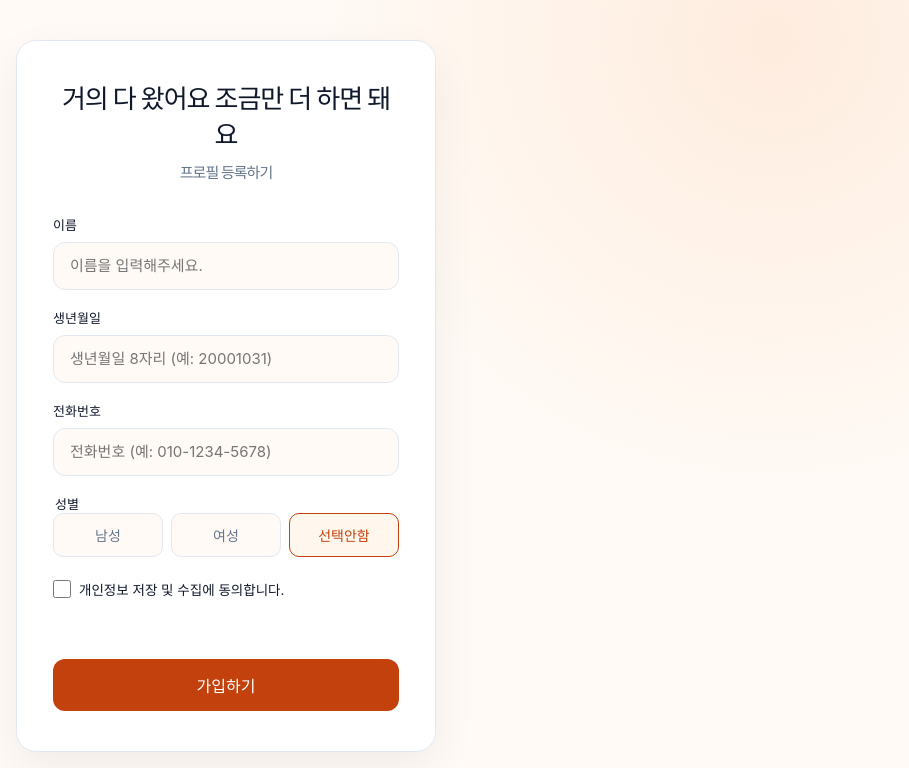
Scenario: JoinProfileView › 8자리가 아닌 생년월일은 전송하지 않는다
This screenshot has width=909, height=768.
Type "홍길동" into the field labelled "이름".
click(226, 266); type("홍길동")  # box left=53, top=242, right=399, bottom=290
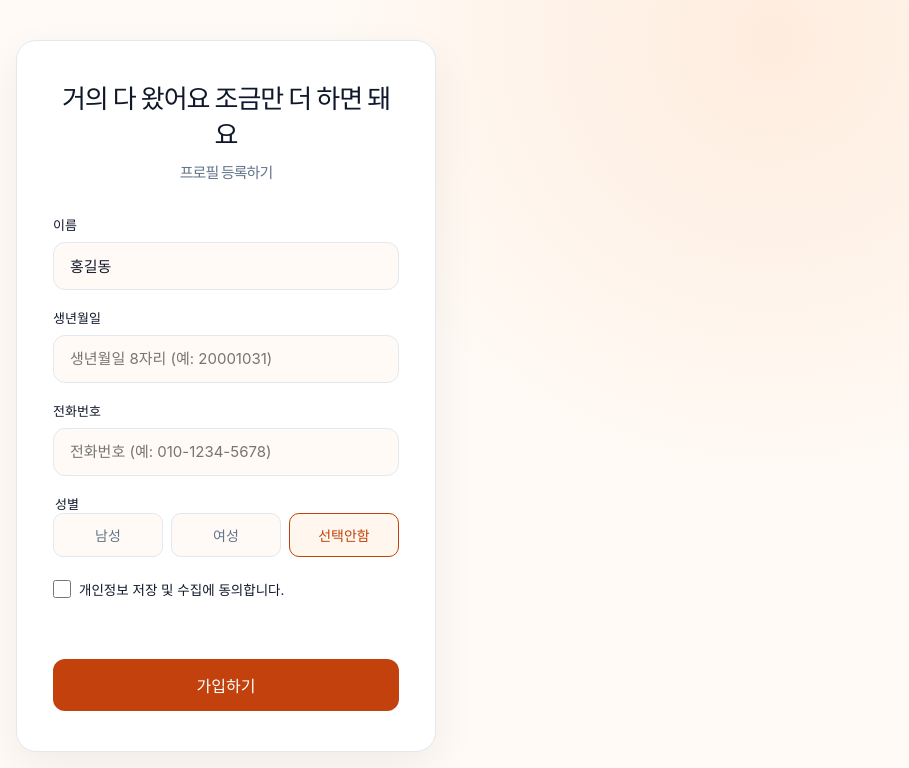
Type "2000010" into the field labelled "생년월일".
click(226, 359); type("2000010")  # box left=53, top=335, right=399, bottom=383
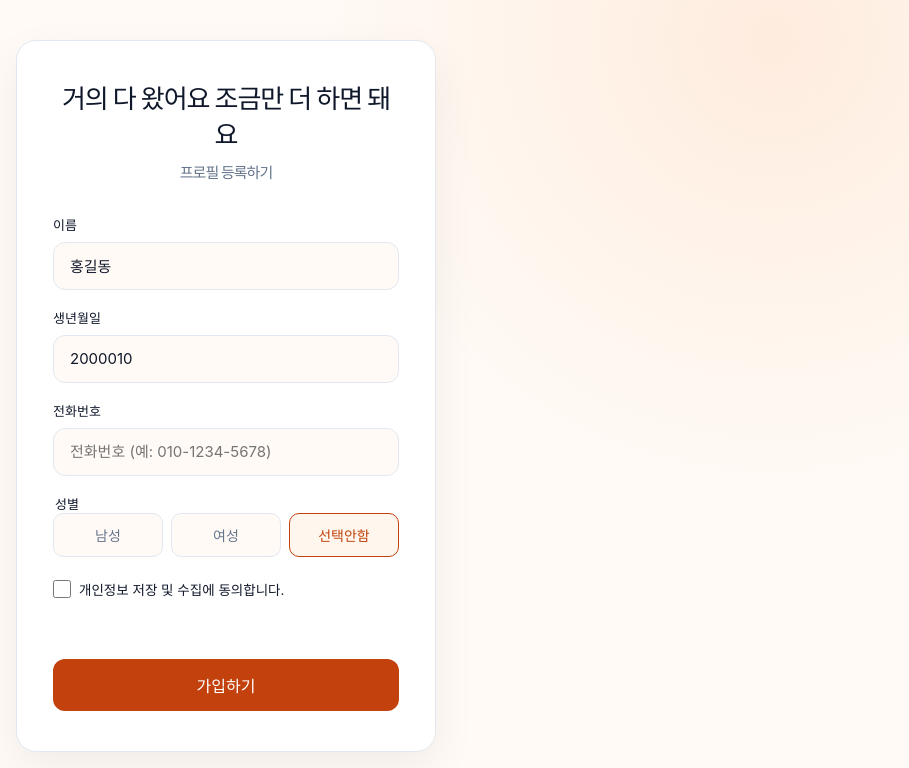
Submit the form, box left=53, top=215, right=399, bottom=711
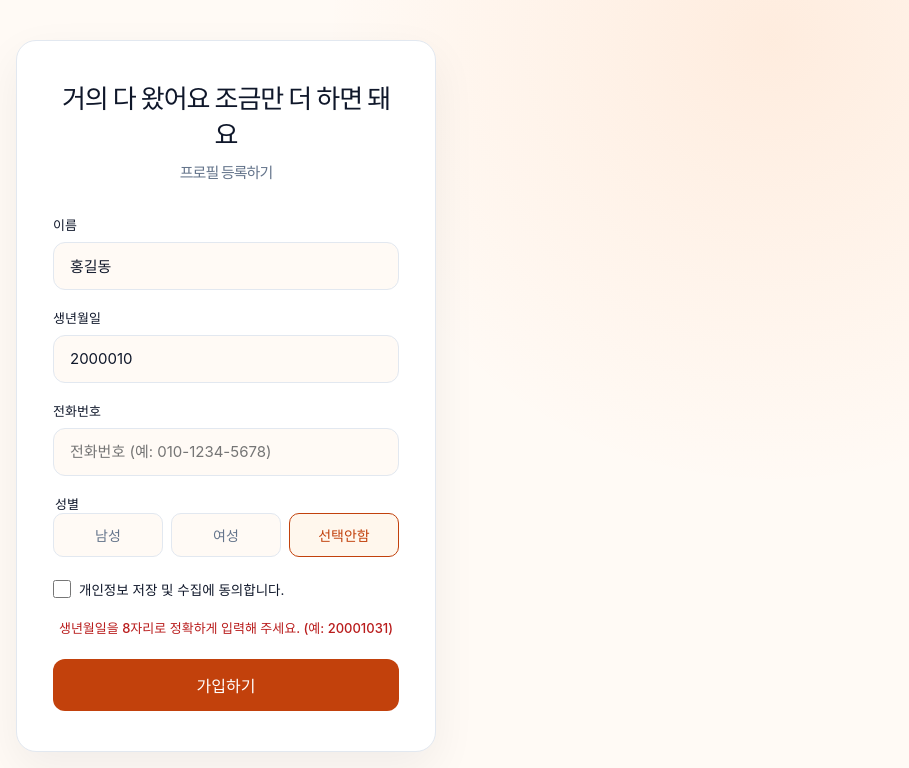
expect the message "생년월일을 8자리로 정확하게 입력해 주세요. (예: 20001031)" is shown: met, box left=59, top=620, right=393, bottom=636
